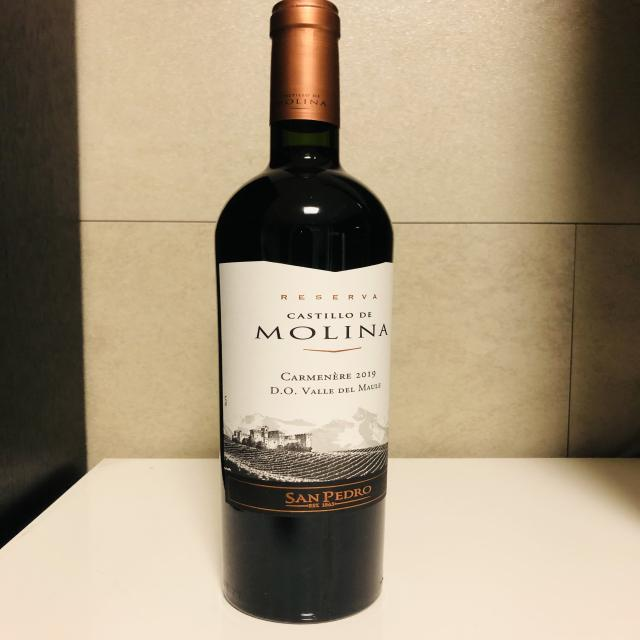Vidrio: (216, 0, 394, 624)
